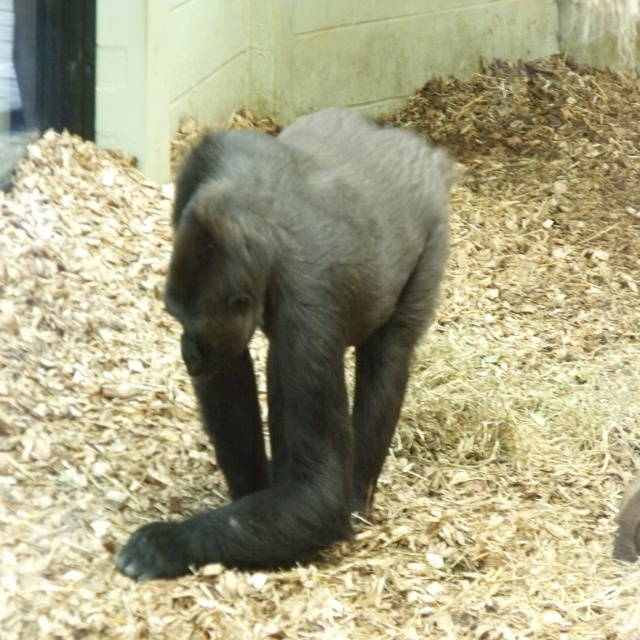Monkey: (136, 89, 464, 590)
